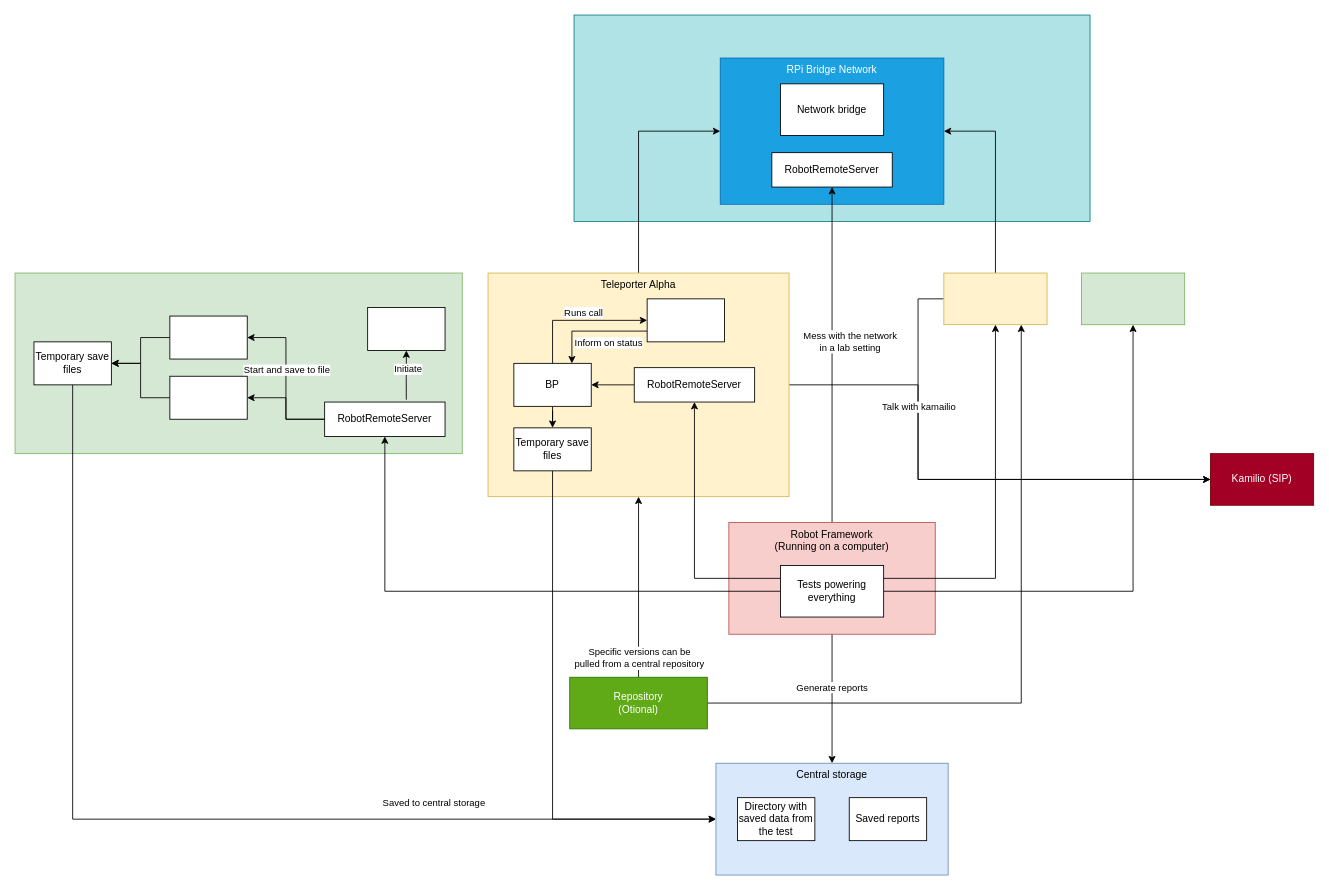
This 1329x890 diagram has some shape labels left out. The shapes that lost their labels are listed below. From the top down, each one's box as (x1, y1, x2, y2) in pixels, then its label:
(573, 14, 1090, 221): Optional setup (for the lab)
(943, 272, 1047, 325): Teleporter Omega
(1081, 272, 1185, 325): RPi Omega
(169, 315, 247, 359): Audio capture
(367, 307, 445, 350): Audio generation
(646, 298, 725, 342): FPGA
(14, 272, 462, 454): RPi Alpha
(169, 375, 247, 419): Wireshark capture
